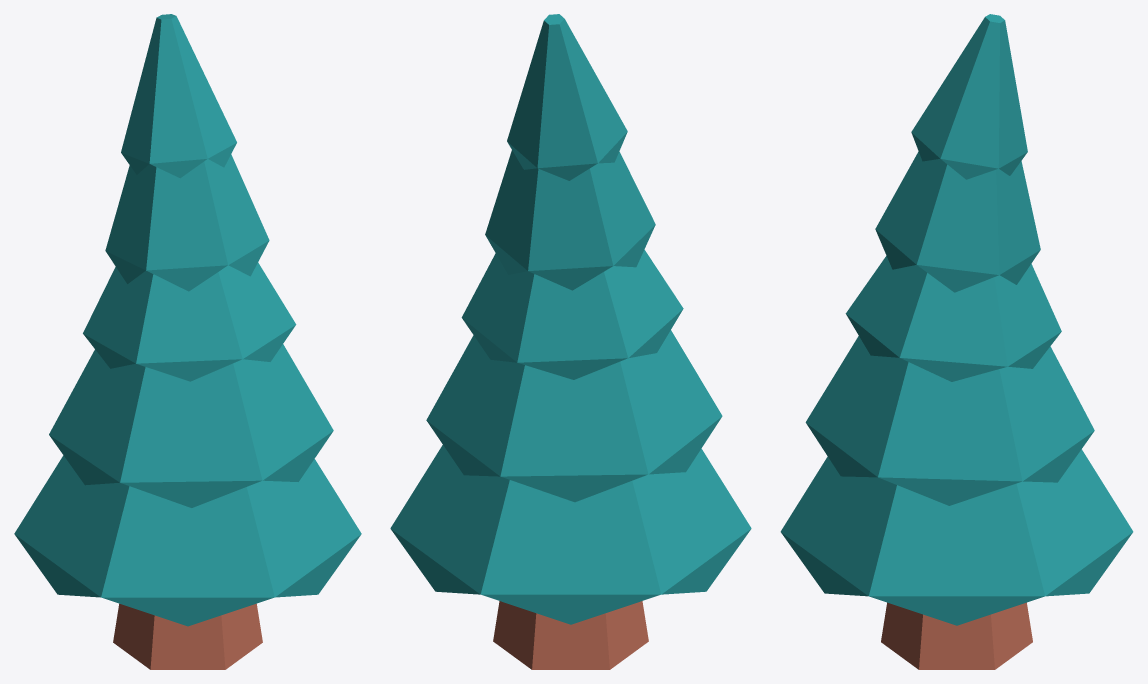
The model's file is tree_pineRoundD.glb.
3 renders of one model, left to right at view 1: azimuth 30°, elevation 25°; view 2: azimuth 150°, elevation 25°; view 3: azimuth 270°, elevation 25°, orthographic. The views are drawn at different scales.
Visible parts, largest first — view 1: tree_pineRoundD; view 2: tree_pineRoundD; view 3: tree_pineRoundD.
Part boxes in pixels (bbox=[...]): tree_pineRoundD: bbox=[14, 14, 361, 669]; tree_pineRoundD: bbox=[390, 14, 751, 669]; tree_pineRoundD: bbox=[780, 14, 1133, 669].
Bounding box in the file's own units: 0.4804 × 1.08 × 0.5547.
